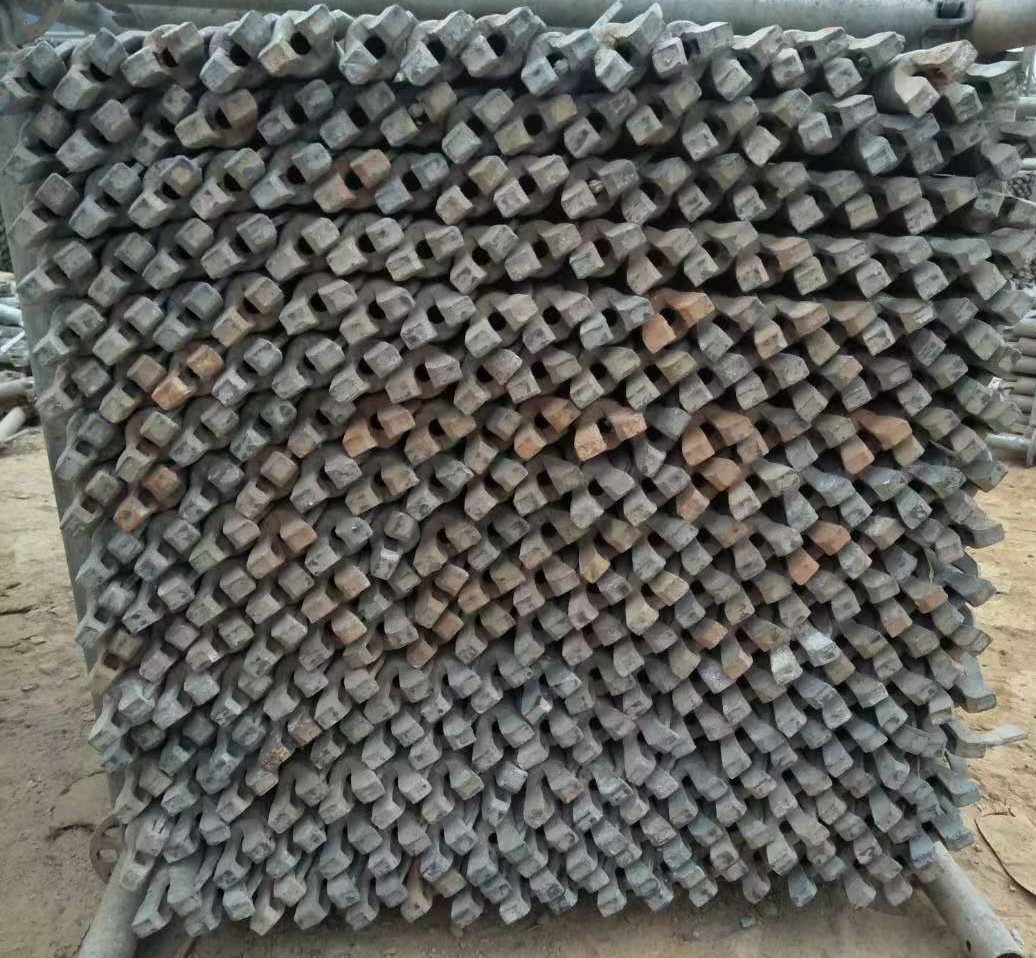NHsquare_steel: (337, 2, 418, 85), (401, 9, 483, 86), (199, 9, 274, 92), (715, 22, 796, 98), (901, 37, 979, 115), (55, 26, 126, 109), (118, 18, 204, 86), (516, 27, 602, 94), (597, 9, 667, 91), (621, 76, 701, 147), (258, 2, 337, 73), (461, 7, 547, 72), (822, 29, 905, 95), (140, 217, 214, 291), (249, 143, 333, 208), (128, 155, 201, 229), (188, 148, 264, 219), (1, 37, 65, 120), (197, 215, 281, 278), (564, 86, 637, 158), (210, 276, 284, 347), (428, 155, 508, 220), (441, 88, 512, 161), (746, 88, 811, 167), (56, 100, 131, 168), (11, 242, 93, 304), (310, 150, 390, 213), (112, 463, 182, 535), (940, 58, 1021, 120), (9, 174, 75, 250), (88, 234, 156, 307), (7, 104, 68, 185), (489, 154, 570, 215), (462, 290, 539, 354), (784, 168, 863, 230), (152, 343, 225, 410), (256, 79, 336, 140), (854, 236, 934, 297), (92, 298, 167, 363), (913, 237, 991, 299), (98, 356, 167, 426), (214, 337, 283, 407), (556, 158, 639, 216), (727, 160, 810, 218), (684, 221, 758, 286), (648, 19, 737, 73), (495, 91, 575, 151), (381, 83, 458, 145), (27, 303, 104, 365), (858, 116, 940, 174), (321, 218, 403, 276), (681, 97, 761, 156), (177, 89, 257, 148), (769, 23, 856, 77), (264, 218, 342, 278), (448, 225, 520, 290), (321, 83, 394, 147), (269, 338, 345, 399), (630, 226, 698, 294), (75, 164, 140, 235), (330, 341, 402, 405), (136, 86, 192, 168), (638, 290, 714, 350), (154, 282, 222, 349), (965, 290, 1032, 358), (971, 230, 1036, 300), (928, 321, 998, 386), (671, 154, 743, 217), (790, 237, 868, 295), (504, 224, 583, 281), (454, 349, 523, 414), (86, 687, 155, 752), (276, 279, 359, 333), (842, 173, 922, 229), (285, 455, 362, 513), (379, 226, 466, 277), (737, 235, 813, 293), (621, 156, 692, 218), (806, 301, 877, 363), (229, 398, 300, 460), (568, 221, 645, 278), (30, 365, 111, 419), (522, 290, 596, 349), (700, 295, 767, 360), (900, 176, 979, 231), (749, 300, 828, 355), (792, 354, 861, 416), (235, 449, 296, 519), (121, 577, 197, 633), (373, 156, 450, 211), (399, 292, 476, 347), (793, 94, 876, 145), (175, 458, 242, 521), (679, 353, 752, 410), (119, 411, 176, 484), (913, 298, 978, 362), (579, 295, 656, 349), (958, 343, 1021, 409), (340, 462, 417, 516), (173, 406, 241, 467), (571, 346, 641, 405), (563, 469, 633, 528), (243, 562, 314, 620), (889, 409, 961, 466), (401, 409, 477, 463), (185, 569, 257, 626), (261, 666, 333, 723), (137, 518, 200, 583), (621, 572, 688, 633), (339, 287, 416, 340), (509, 462, 586, 515), (906, 121, 986, 172), (623, 463, 691, 523), (862, 299, 936, 354), (625, 351, 695, 409), (304, 517, 374, 575), (184, 617, 254, 675), (785, 520, 850, 582), (627, 520, 694, 580), (403, 459, 471, 518), (238, 617, 306, 676), (504, 352, 581, 404), (953, 401, 1018, 462), (737, 353, 809, 408), (291, 398, 357, 458), (247, 521, 319, 576), (340, 404, 416, 456), (678, 520, 747, 577), (820, 674, 891, 729), (679, 456, 743, 517), (947, 458, 1007, 523), (573, 524, 639, 583), (310, 710, 376, 769), (838, 417, 911, 470), (512, 404, 581, 460), (733, 524, 803, 579), (73, 532, 143, 587), (61, 470, 121, 534), (898, 464, 962, 524), (74, 585, 134, 649), (52, 416, 111, 481), (264, 771, 329, 830), (95, 723, 166, 777), (767, 629, 839, 682), (574, 408, 647, 460), (719, 620, 781, 681), (156, 670, 218, 731), (347, 619, 421, 670), (466, 514, 532, 571), (315, 669, 381, 726), (840, 467, 907, 523), (634, 407, 689, 475), (784, 418, 857, 469), (727, 466, 800, 517), (156, 711, 217, 772), (464, 409, 523, 472), (300, 613, 364, 671), (725, 573, 791, 629), (681, 413, 752, 465), (786, 474, 853, 529), (304, 564, 371, 619), (669, 617, 728, 679), (875, 673, 937, 732), (464, 459, 527, 517), (563, 824, 628, 880), (361, 669, 433, 719), (456, 603, 515, 664), (214, 668, 273, 729), (508, 610, 571, 667), (398, 866, 467, 918), (675, 571, 740, 626), (469, 657, 534, 712), (385, 358, 464, 403), (512, 718, 583, 768), (141, 622, 201, 681), (844, 358, 912, 410), (414, 563, 471, 625), (259, 711, 321, 768), (265, 824, 327, 881), (934, 624, 990, 687), (344, 875, 408, 930), (568, 575, 633, 629), (901, 355, 967, 408), (356, 568, 422, 621), (212, 765, 278, 818), (561, 665, 637, 711), (125, 890, 201, 936), (115, 822, 167, 889), (567, 712, 635, 763), (721, 666, 784, 721), (777, 570, 841, 624), (614, 624, 678, 678), (515, 516, 584, 566), (412, 524, 481, 574), (191, 521, 260, 571), (457, 561, 527, 610), (216, 830, 275, 888), (881, 584, 948, 635), (737, 413, 805, 463), (416, 668, 484, 718), (405, 720, 477, 767), (840, 517, 900, 573), (248, 873, 304, 933), (872, 629, 939, 679), (472, 717, 536, 769), (824, 629, 885, 683), (765, 815, 826, 869), (828, 571, 898, 618), (885, 515, 938, 577), (362, 716, 425, 768), (408, 611, 464, 669), (108, 768, 168, 822), (523, 771, 587, 821), (185, 889, 253, 936), (211, 714, 265, 773), (721, 721, 780, 775), (930, 521, 1004, 564), (164, 818, 230, 866), (824, 722, 886, 773), (423, 821, 478, 878), (779, 675, 833, 733), (936, 576, 995, 629), (673, 662, 733, 714), (719, 769, 780, 820), (876, 775, 933, 829), (372, 772, 430, 825), (767, 719, 831, 767), (510, 568, 578, 613), (665, 707, 733, 752), (971, 184, 1036, 231), (769, 767, 834, 814), (295, 878, 358, 926), (667, 769, 724, 822), (623, 661, 681, 713), (561, 616, 621, 666), (808, 813, 868, 863), (424, 769, 485, 818), (370, 824, 434, 870), (319, 771, 382, 817), (87, 633, 136, 692), (321, 825, 381, 873), (707, 820, 775, 862), (160, 770, 233, 809), (469, 836, 532, 881), (921, 722, 988, 764), (982, 124, 1036, 176), (661, 817, 722, 863), (880, 726, 929, 783), (621, 771, 678, 820), (523, 668, 581, 716), (452, 877, 513, 922), (626, 722, 675, 778), (923, 683, 996, 720), (576, 776, 630, 826), (372, 513, 412, 579), (516, 828, 576, 872), (614, 821, 674, 865), (482, 767, 529, 823), (501, 877, 562, 920), (550, 869, 607, 915), (820, 770, 873, 819), (646, 865, 701, 911), (917, 777, 980, 817), (598, 871, 661, 911), (910, 822, 972, 861), (885, 859, 945, 899), (845, 855, 896, 902), (692, 859, 746, 903), (789, 860, 843, 903)
